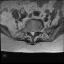CCS_normal: (32, 28, 33, 38)
LFS_stenosis: (35, 28, 37, 33)
LLS_normal: (33, 28, 35, 37)
RFS_normal: (28, 28, 30, 34)
RLS_normal: (30, 29, 32, 36)
